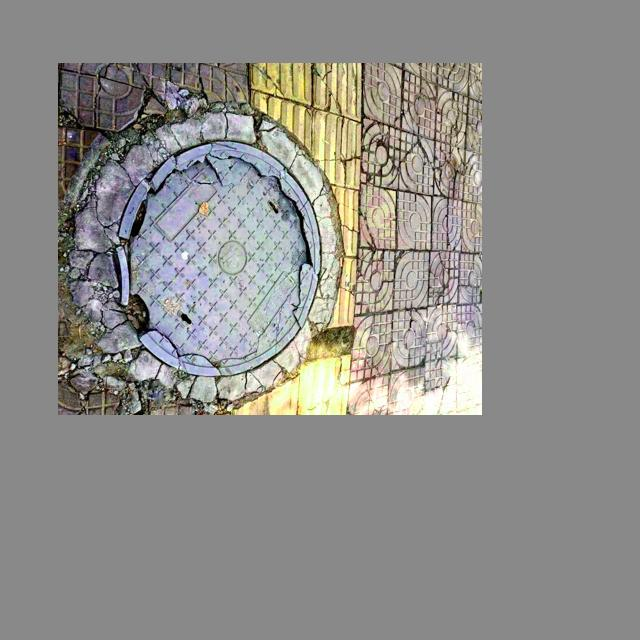circle: (75, 103, 350, 398)
